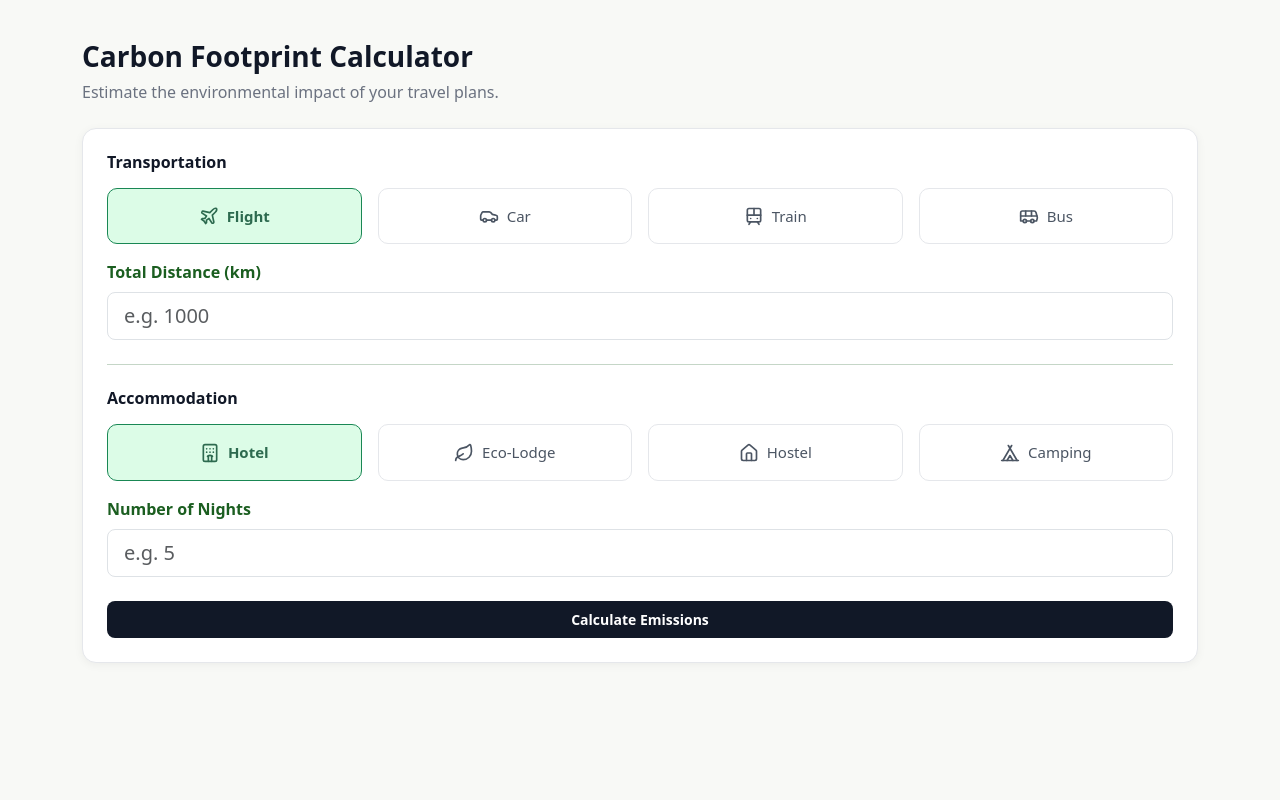
Test case: CalculatorPage › calculates low impact result for train and camping
The width and height of the screenshot is (1280, 800).
Click the button "Train". click: (775,216)
box: [648, 188, 902, 244]
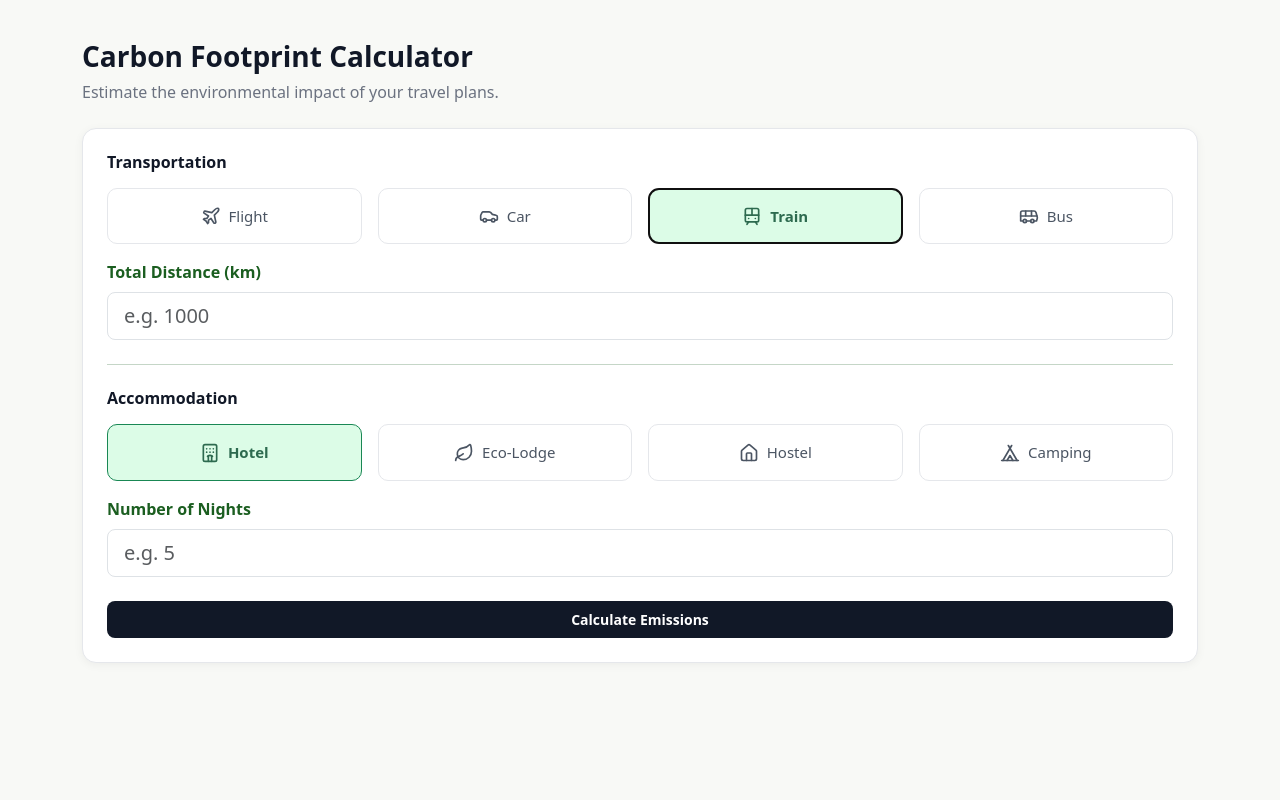
Click the button "Camping". click: (1046,453)
box: [918, 424, 1173, 481]
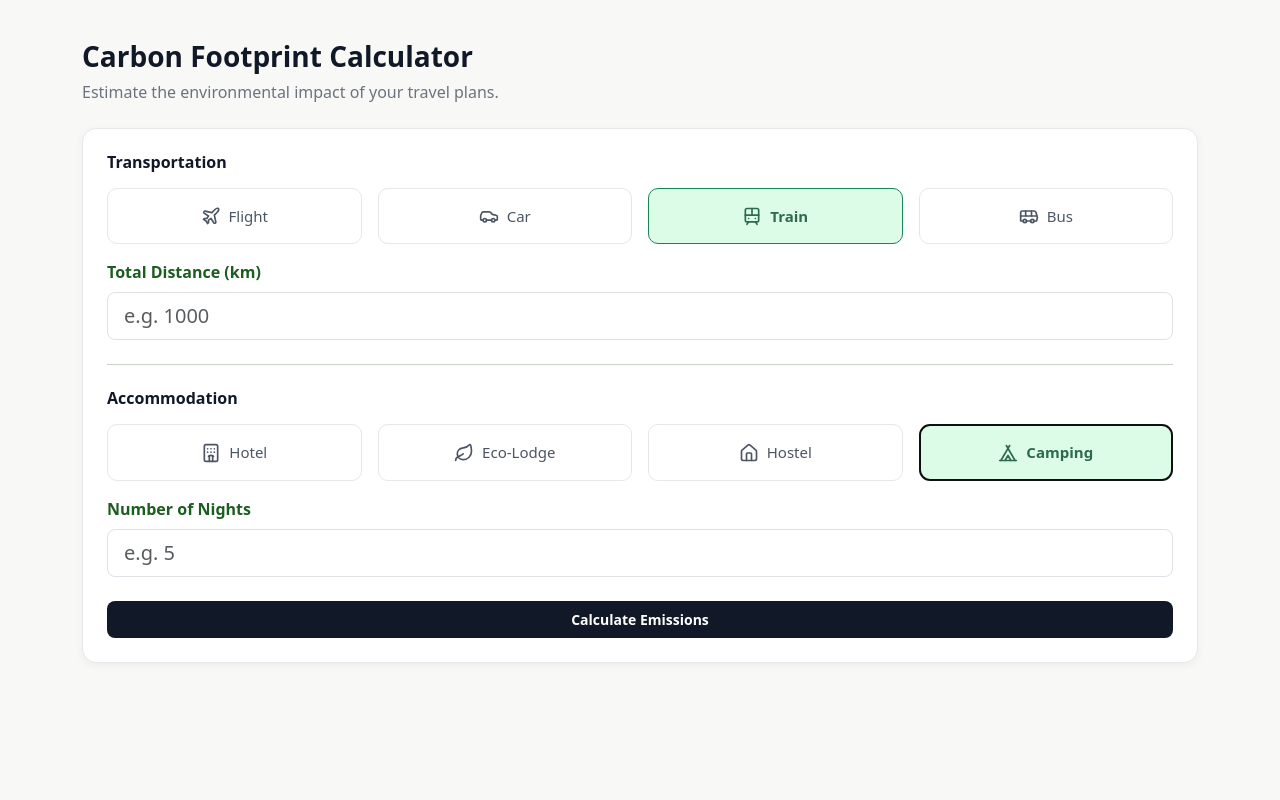
Type "100" into the number field named "total distance". click: (640,316)
box: [107, 292, 1173, 340]
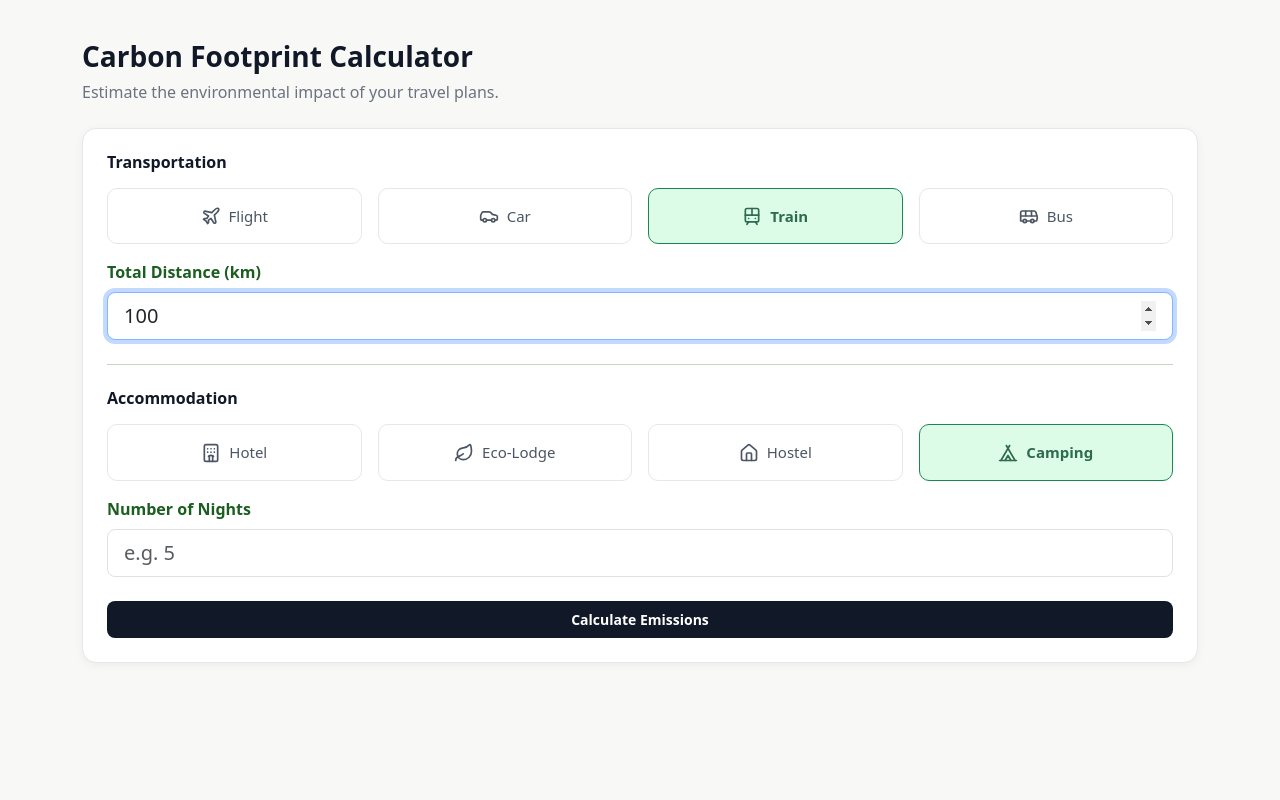
Type "2" into the number field named "number of nights". click: (640,553)
box: [107, 529, 1173, 577]
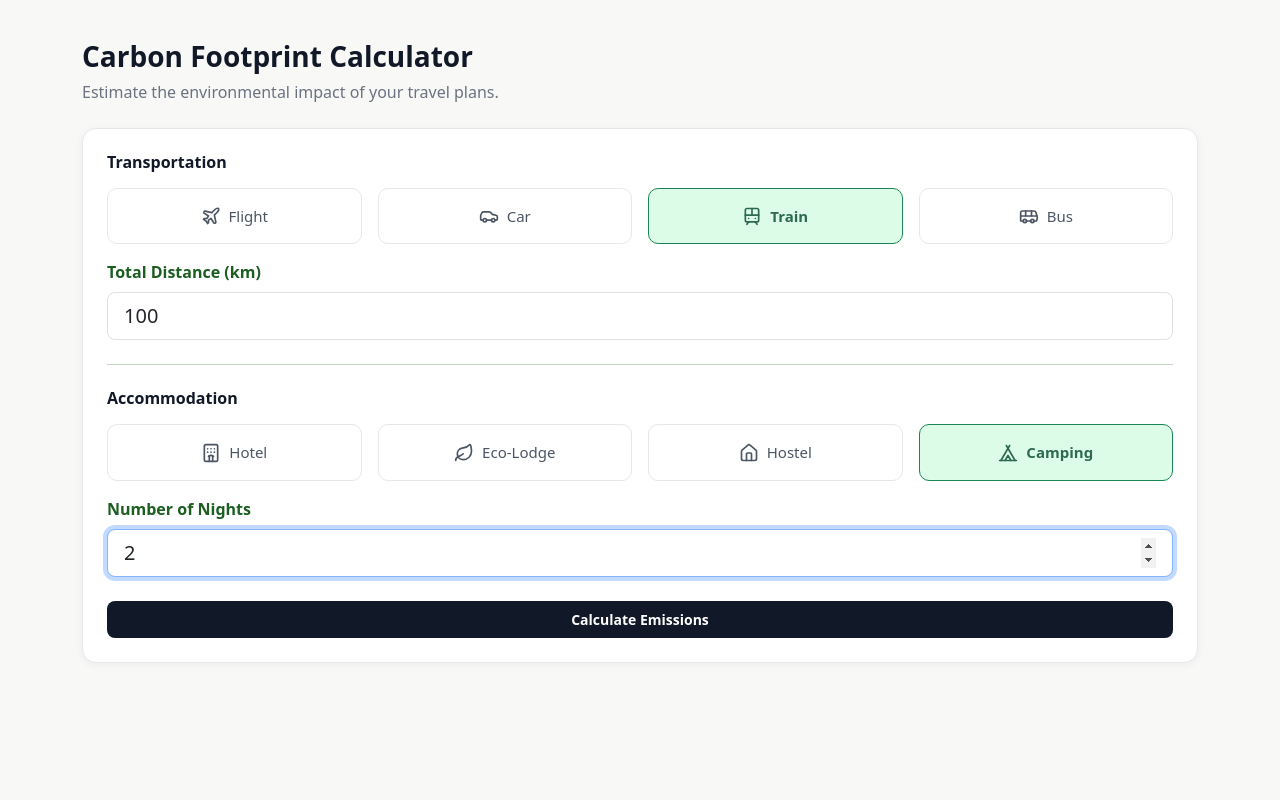
Click the button "Calculate Emissions". click: (640,620)
box: [107, 601, 1173, 638]
(page scrolled)
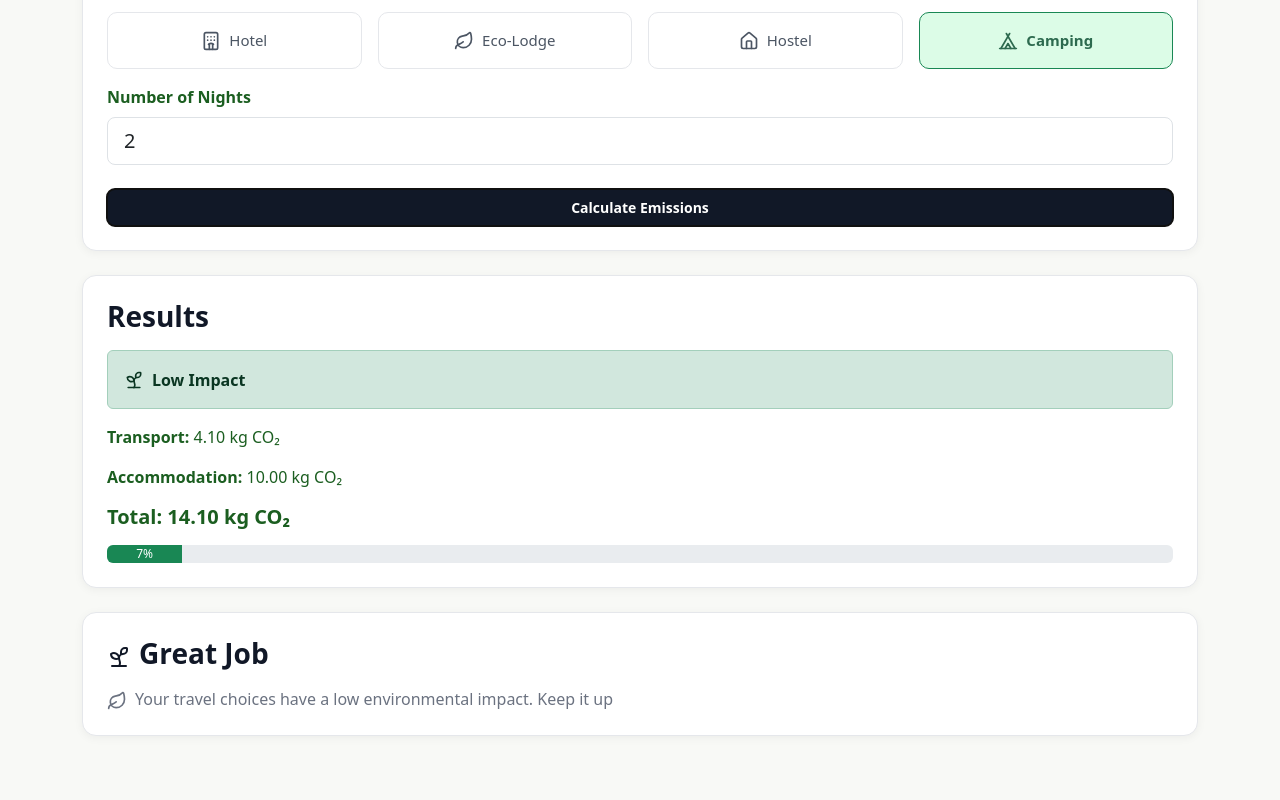
Check: the text "4.10 kg CO₂" is shown, box [107, 426, 280, 448]
Check: the text "10.00 kg CO₂" is shown, box [107, 466, 342, 488]
Check: the heading "Total: 14.10 kg CO₂" is shown, box [107, 503, 290, 530]
